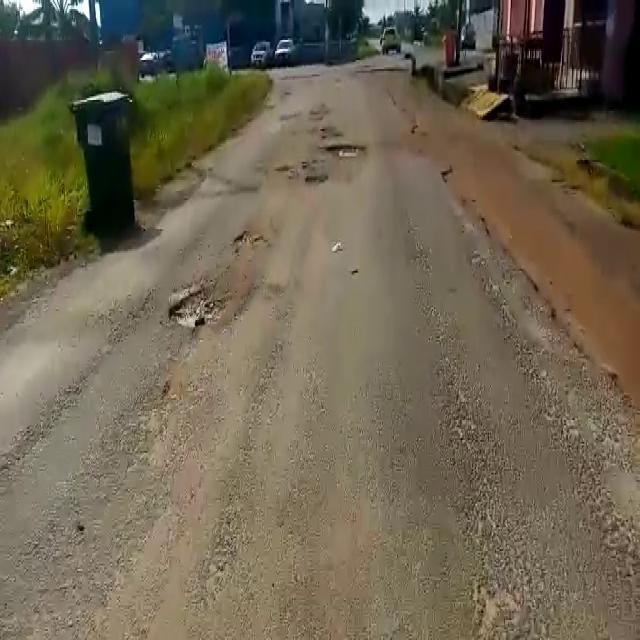pothole: (163, 281, 236, 334), (325, 140, 370, 156), (305, 172, 333, 189)
